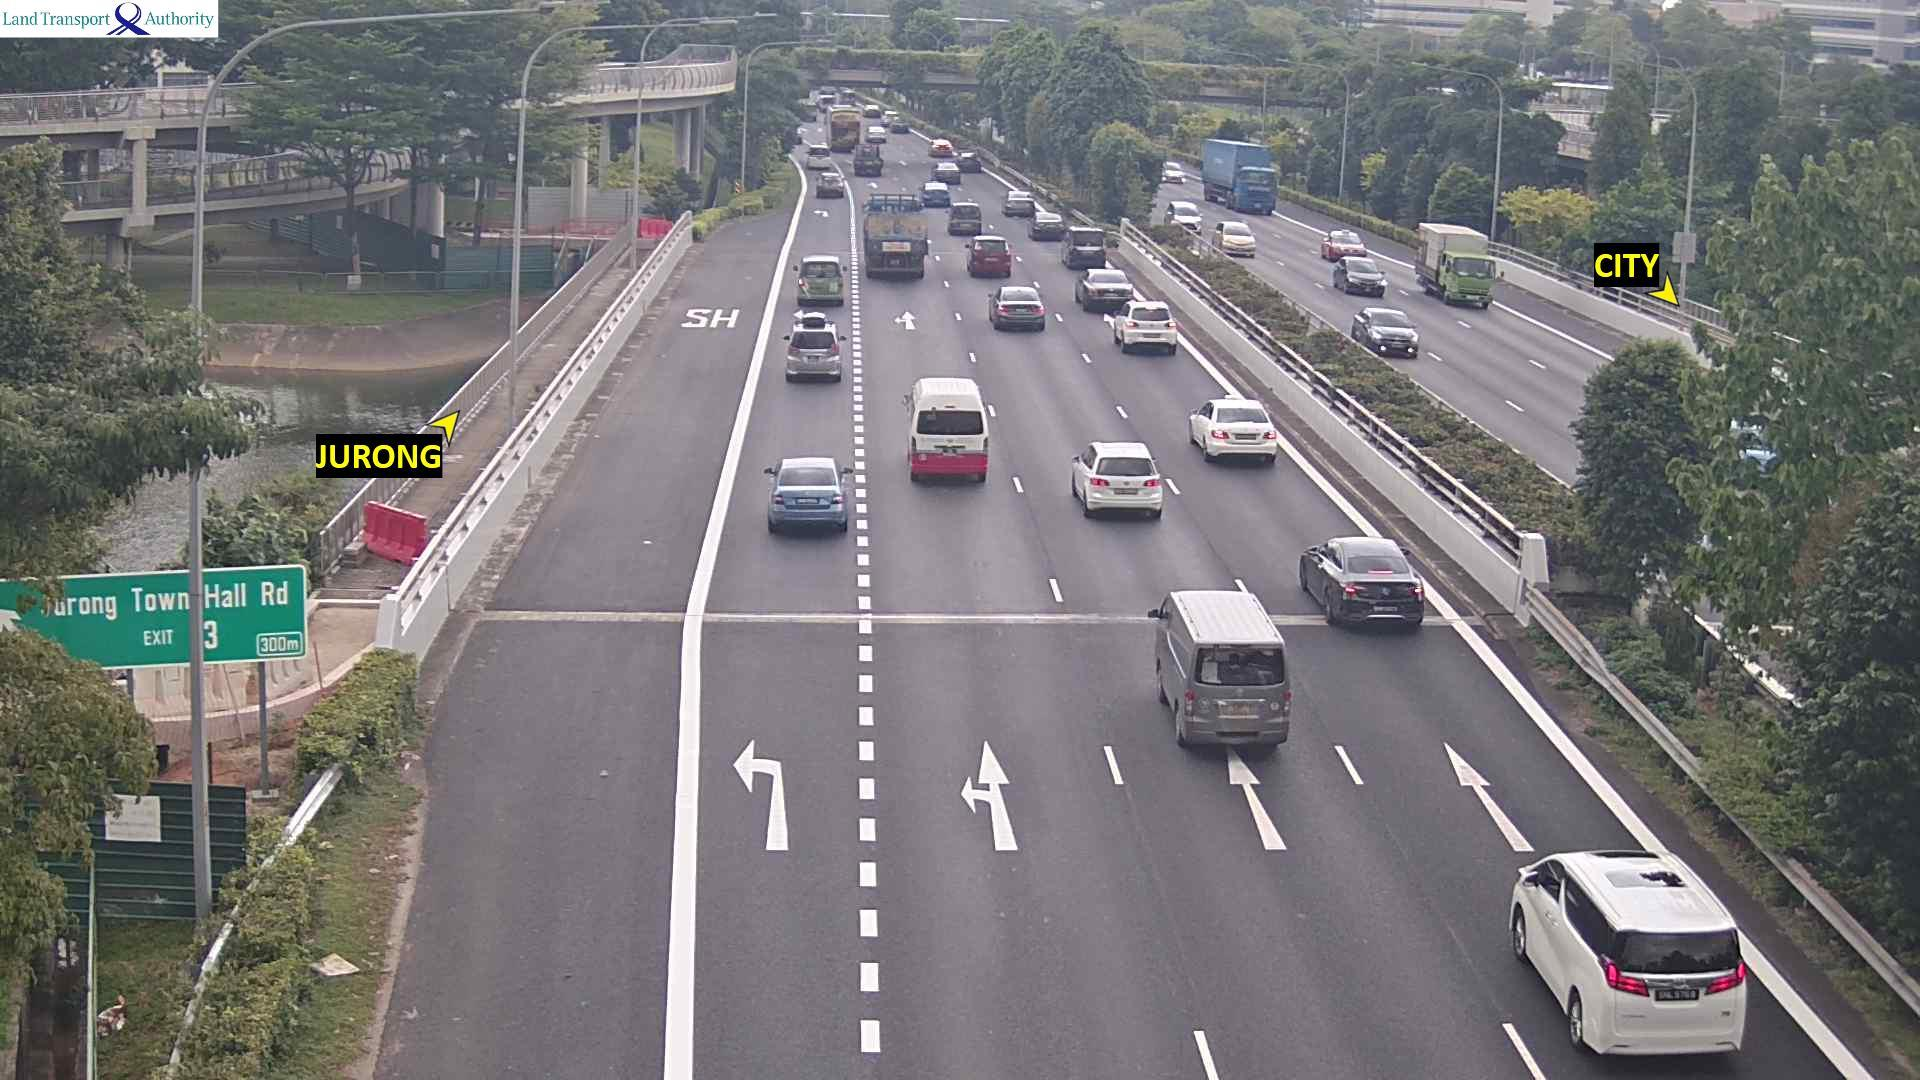bus: (823, 104, 864, 156)
cars: (1507, 847, 1749, 1058), (1147, 584, 1292, 750), (1298, 534, 1425, 629), (902, 375, 992, 484), (1069, 439, 1164, 520), (762, 455, 848, 533), (1188, 396, 1278, 464), (1102, 298, 1178, 353), (1350, 306, 1419, 357), (785, 324, 843, 382), (986, 284, 1046, 331), (1073, 266, 1134, 311), (795, 253, 844, 305), (1331, 255, 1386, 295), (964, 233, 1011, 277), (1060, 225, 1106, 269), (1320, 227, 1366, 261), (1215, 219, 1255, 257), (1164, 199, 1203, 235), (789, 307, 833, 338), (947, 200, 982, 235), (1029, 208, 1064, 239), (852, 142, 884, 175), (1002, 189, 1035, 216), (916, 179, 951, 206), (815, 170, 844, 196), (932, 158, 961, 185), (804, 141, 831, 169), (1159, 161, 1185, 185), (927, 137, 956, 157), (957, 148, 981, 171), (865, 124, 887, 142), (889, 117, 909, 133), (862, 103, 881, 117), (794, 123, 806, 142)
trucks: (1414, 222, 1497, 309), (860, 193, 928, 280), (1201, 137, 1278, 210)
